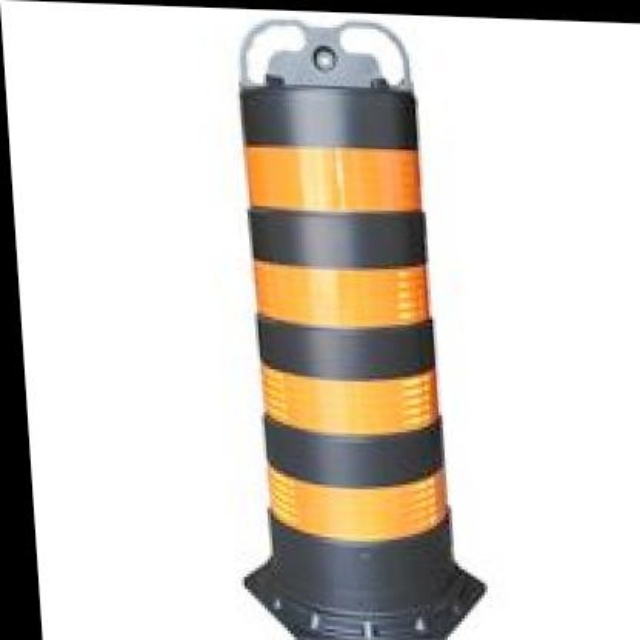obstacle: (214, 43, 465, 613)
